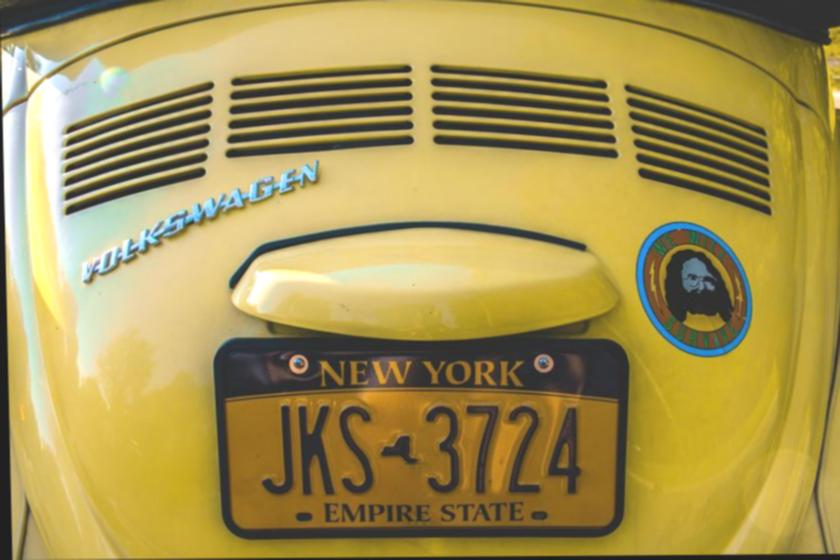License_Plate: (199, 334, 627, 538)
